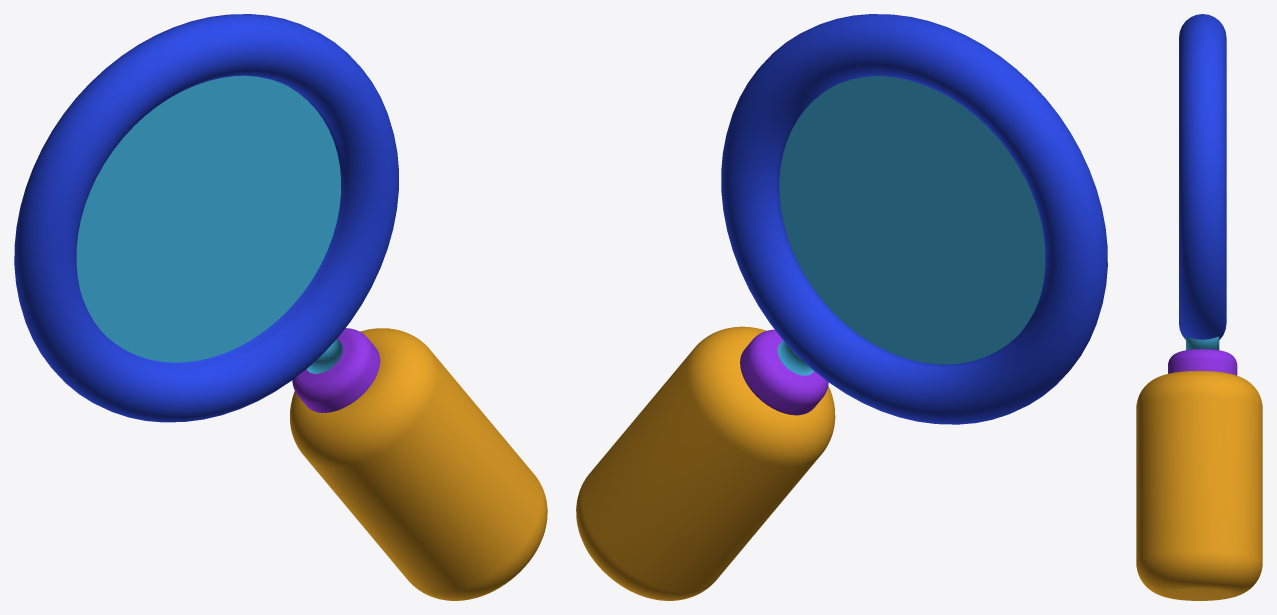
Rendered from Filters.glb.
3 renders of one model, left to right at view 1: azimuth 30°, elevation 25°; view 2: azimuth 150°, elevation 25°; view 3: azimuth 270°, elevation 25°, orthographic. The views are drawn at different scales.
Parts seen in each view (by area): view 1: magnifying glass; view 2: magnifying glass; view 3: magnifying glass.
Part boxes in pixels (x1=…): magnifying glass: x1=14, y1=14, x2=547, y2=600; magnifying glass: x1=576, y1=14, x2=1107, y2=600; magnifying glass: x1=1136, y1=14, x2=1262, y2=600.
Size of the model in its own units: 5.82 by 6.78 by 1.62.
